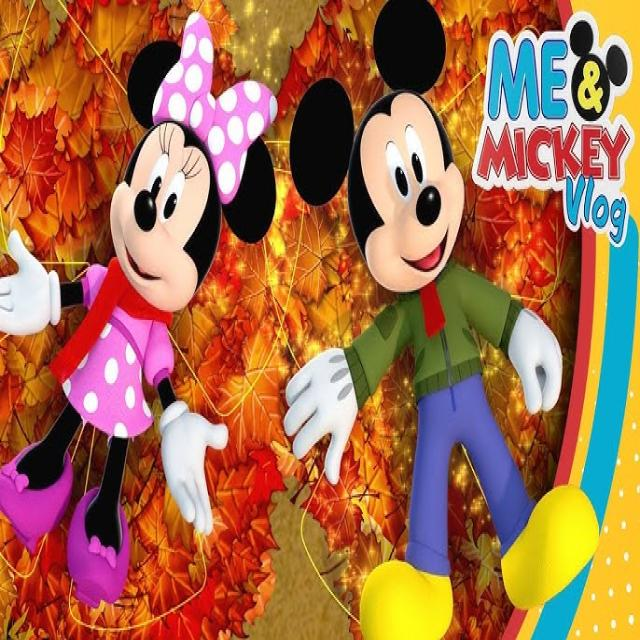mickey: (292, 0, 534, 611)
